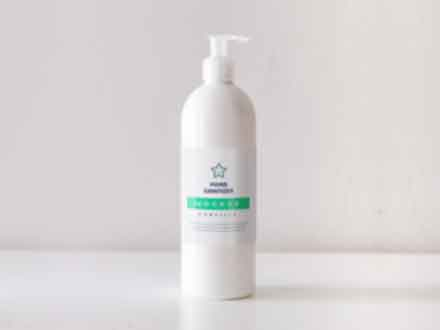Medicine: (173, 25, 279, 308)
